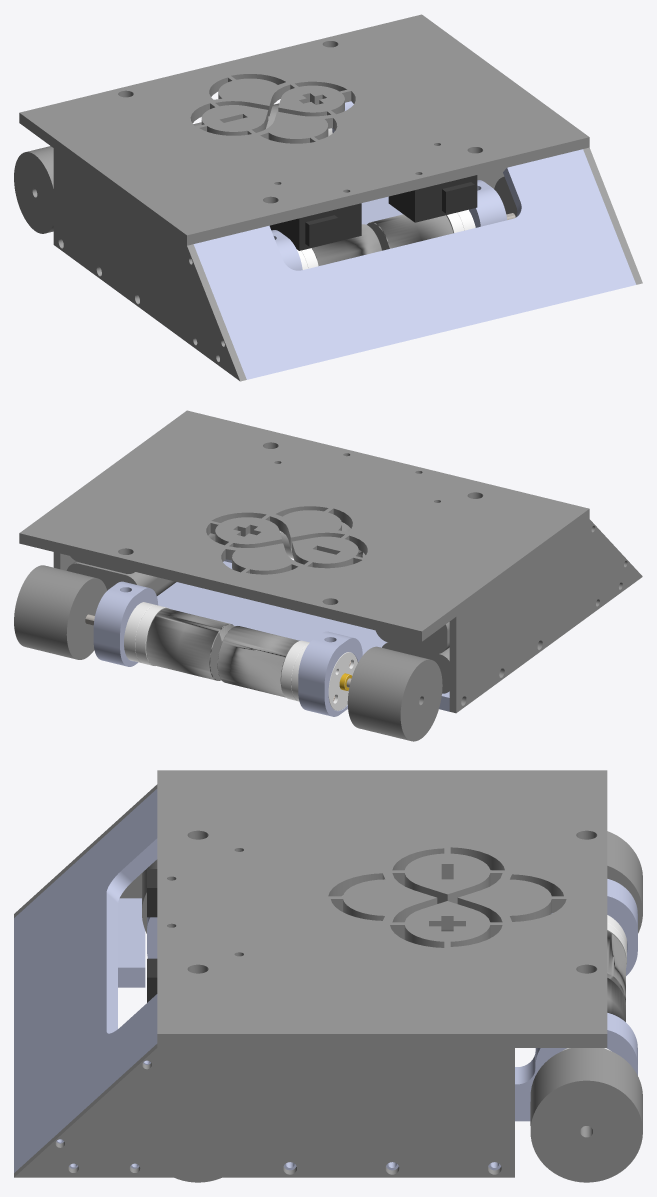
The picture shows the model from 3 angles, top to bottom: view 1: azimuth 30°, elevation 25°; view 2: azimuth 150°, elevation 25°; view 3: azimuth 270°, elevation 25°; orthographic projection. The views are drawn at different scales.
Parts seen in each view (by area): view 1: Body1 (×12); view 2: Body1 (×12), Body4 (×2); view 3: Body1 (×11).
Boxes of the visible parts, x1,y1,x2,y2 form: Body1 (×12): (14, 14, 642, 381); Body1 (×12): (14, 410, 642, 741); Body4 (×2): (124, 602, 357, 710); Body1 (×11): (14, 770, 642, 1182).
Bounding box in the file's own units: 7.62 × 2.07 × 7.69.
